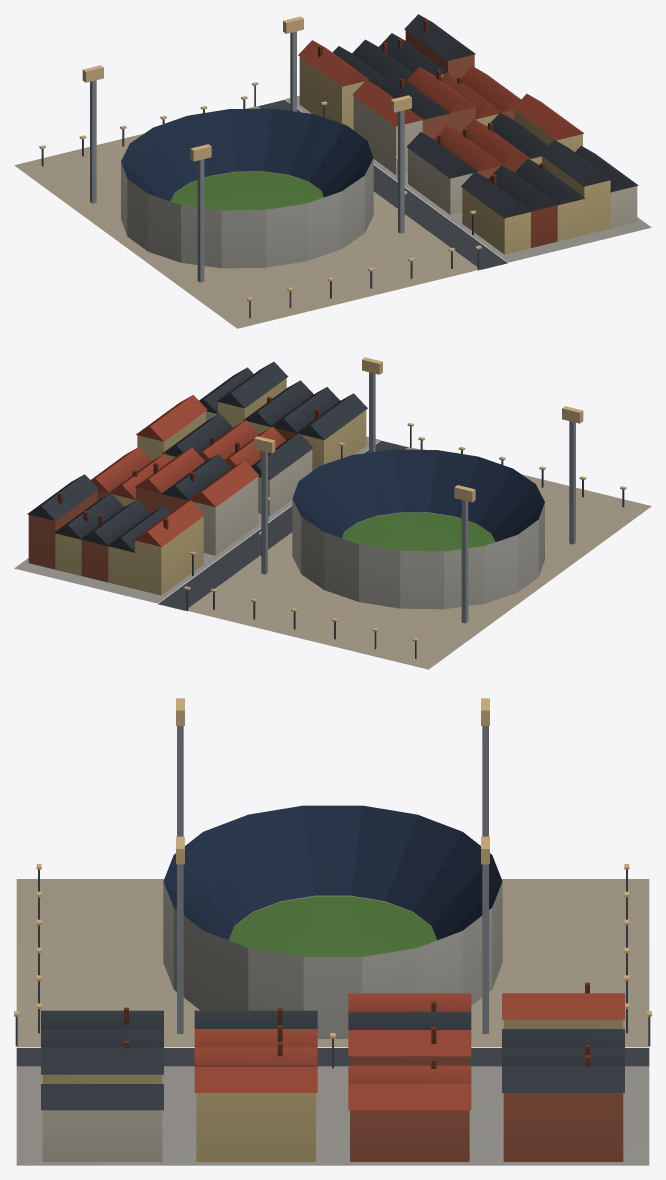
File: district_stadium_row.fbx
The picture shows the model from 3 angles, top to bottom: view 1: azimuth 30°, elevation 25°; view 2: azimuth 150°, elevation 25°; view 3: azimuth 270°, elevation 25°; orthographic projection. The views are drawn at different scales.
Visible parts, largest first — view 1: district_stadium_row; view 2: district_stadium_row; view 3: district_stadium_row.
Part boxes in pixels (x1=…): district_stadium_row: x1=14, y1=14, x2=651, y2=328; district_stadium_row: x1=14, y1=357, x2=651, y2=669; district_stadium_row: x1=14, y1=698, x2=651, y2=1165.
Size of the model in its own units: 120 by 37.15 by 113.
